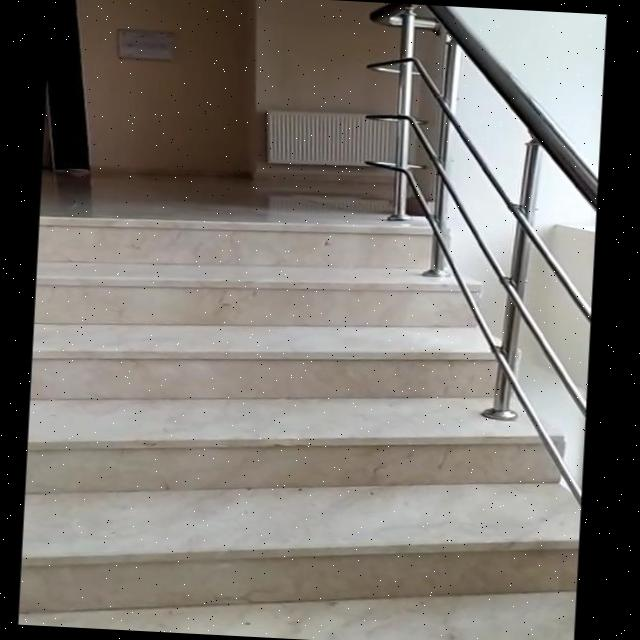stairs: (16, 200, 596, 640)
